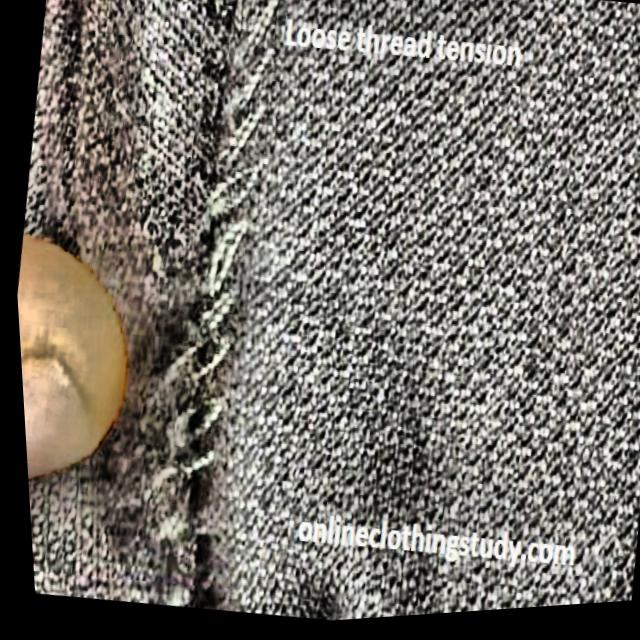Stitch: (105, 0, 322, 582)
